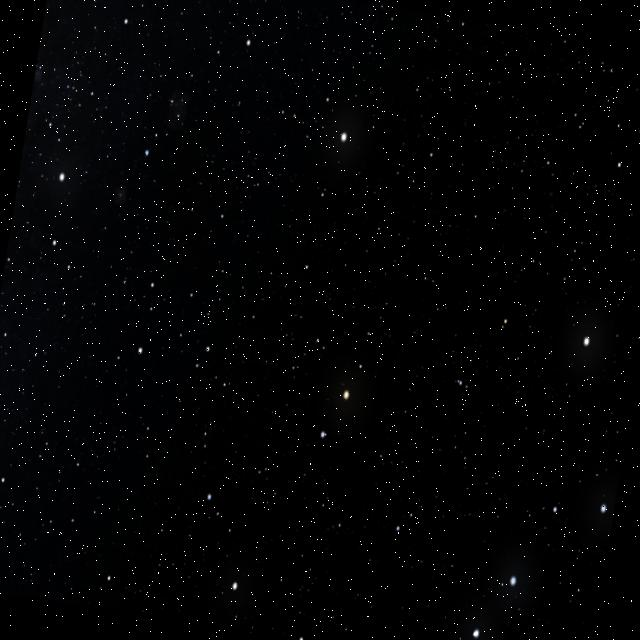Ursa Minor: (248, 103, 416, 464)
